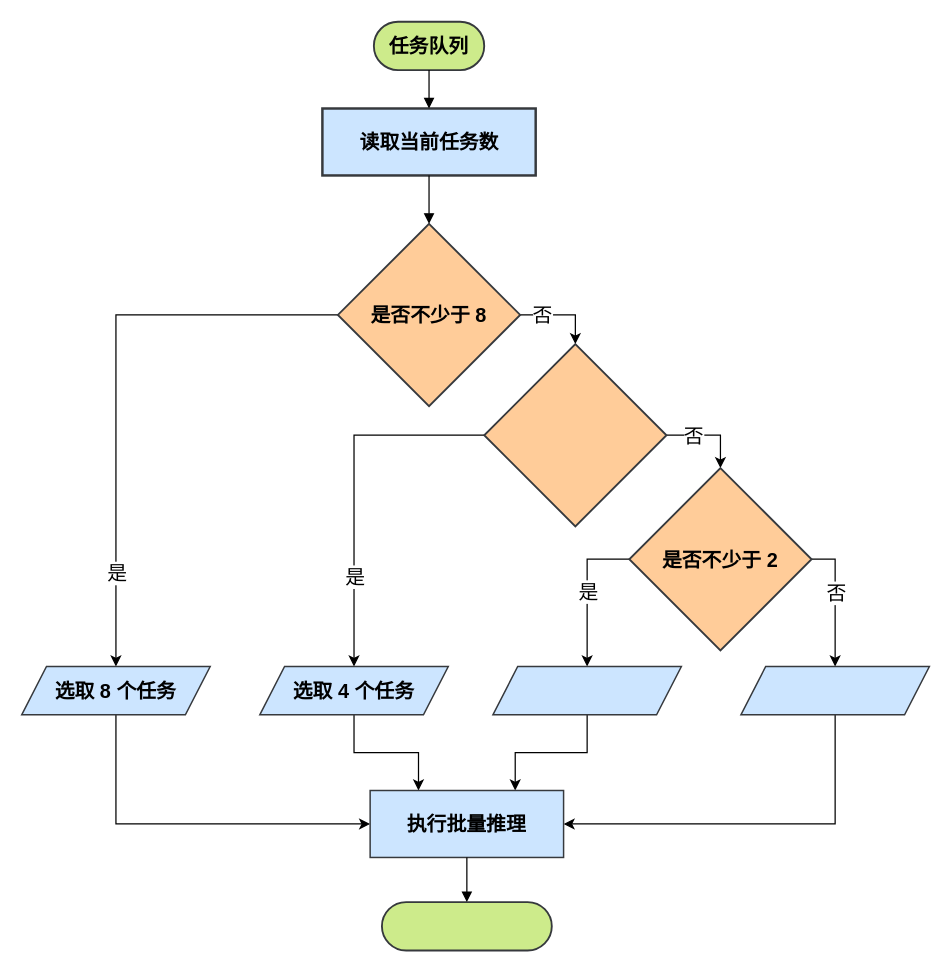
The diagram is 952 pixels wide and 973 high, and some of its shapes have lost their labels. Each missing label, with the centre of its shape:
拆分结果并返回: the point at 466,926
是否不少于 4: the point at 575,435
选取 1 个任务: the point at 835,690
选取 2 个任务: the point at 587,690
